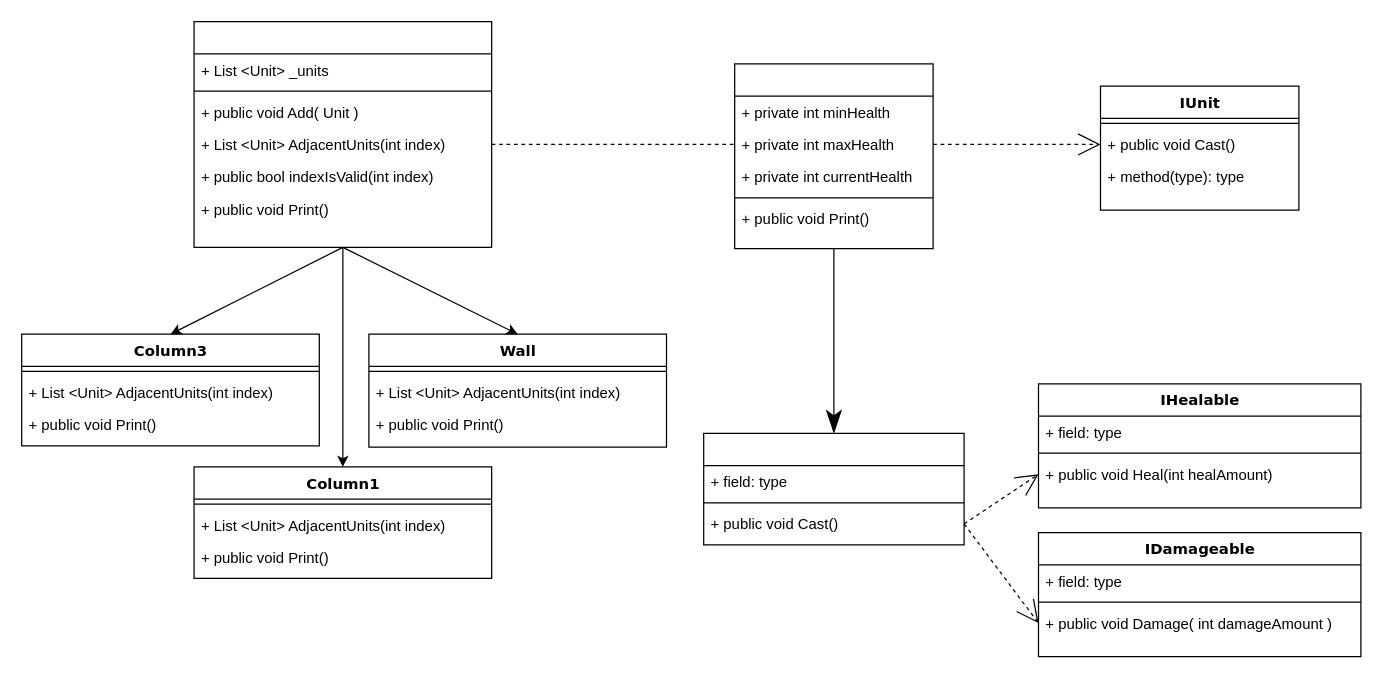
Image size: 1383x678. Some labels were removed from this diagram. The shapes that lost their labels are listed below. From the top down, each one's box as (x1, y1, x2, y2) in pixels, then its label:
(193, 20, 492, 247): Army
(733, 63, 933, 249): Unit
(702, 432, 964, 545): Healer
